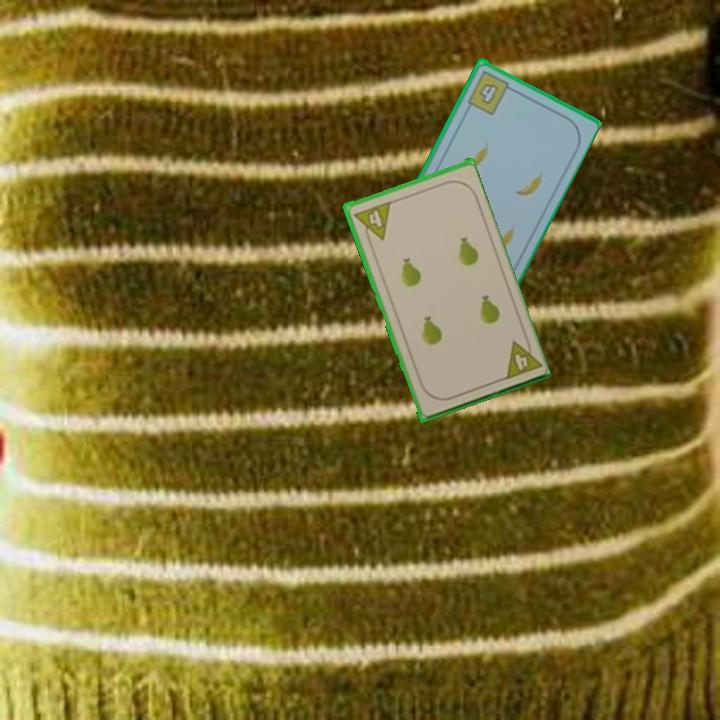4b: (464, 66, 517, 117)
4p: (499, 333, 543, 382), (349, 198, 393, 246)
